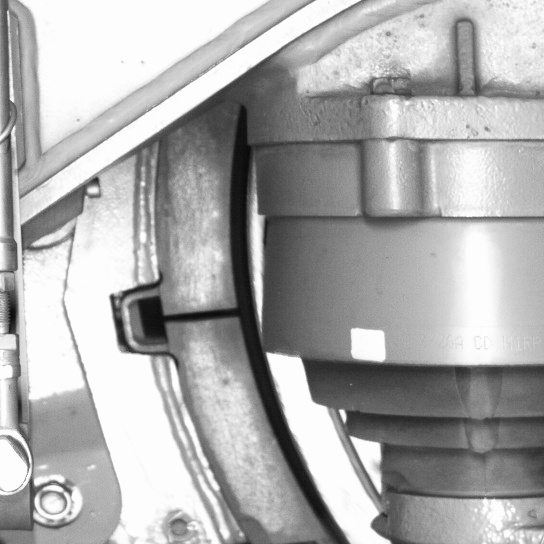KnifeSwitch: (164, 140, 353, 542)
